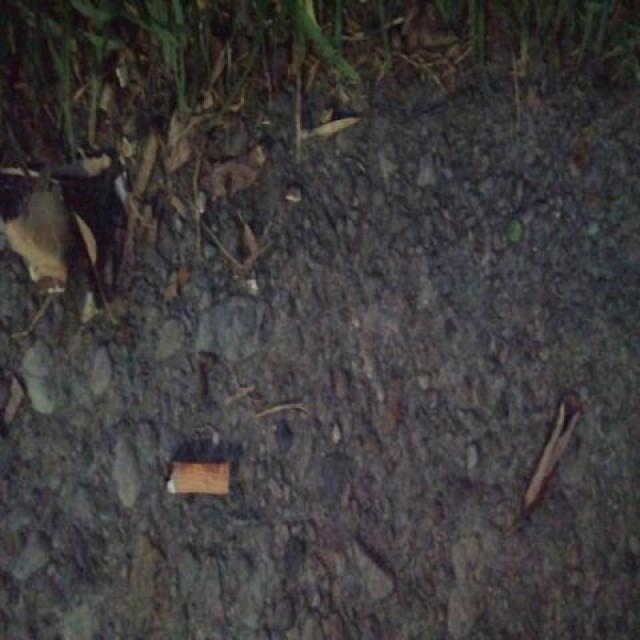non-organic waste: (160, 454, 235, 502)
